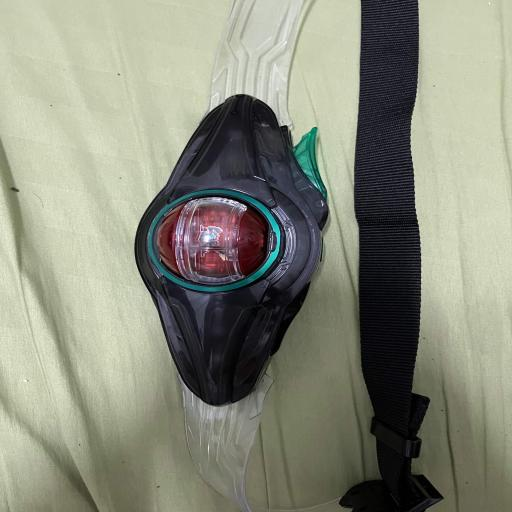zeztzdriver: (135, 93, 329, 406), (339, 0, 443, 512), (179, 374, 280, 512), (208, 0, 304, 127), (293, 127, 327, 201)
